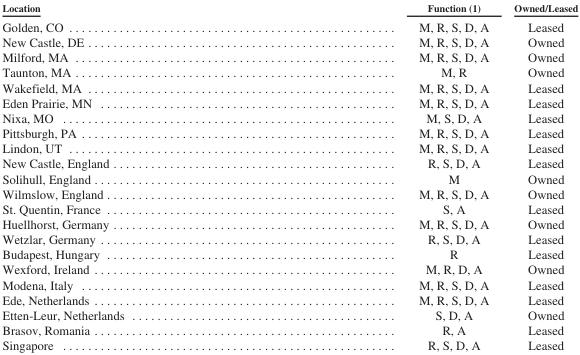table: (1, 1, 577, 351)
table column: (1, 1, 270, 351), (270, 1, 500, 351), (500, 1, 577, 351)
table column header: (1, 1, 577, 16)
table row: (1, 16, 577, 34), (1, 94, 577, 110), (1, 200, 577, 216), (1, 291, 577, 307), (1, 1, 577, 16), (1, 34, 577, 49), (1, 49, 577, 64), (1, 64, 577, 79), (1, 79, 577, 94), (1, 110, 577, 125), (1, 125, 577, 140), (1, 140, 577, 155), (1, 155, 577, 170), (1, 170, 577, 185), (1, 185, 577, 200), (1, 216, 577, 231), (1, 231, 577, 246), (1, 246, 577, 261), (1, 261, 577, 276), (1, 276, 577, 291), (1, 307, 577, 322), (1, 322, 577, 337), (1, 337, 577, 351)
